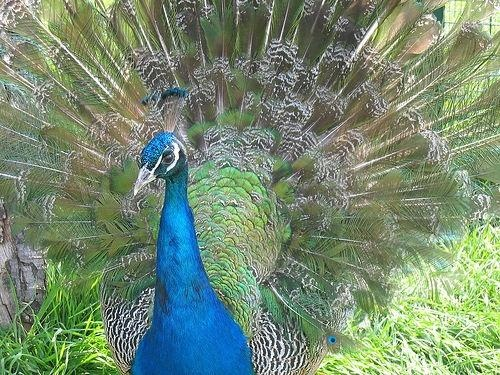bird: (2, 2, 500, 375)
